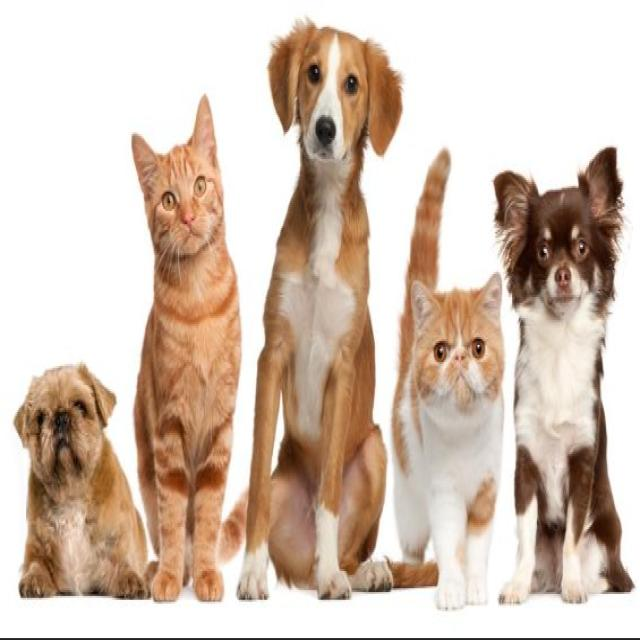cats: (123, 116, 247, 594), (405, 138, 509, 616)
dogs: (264, 20, 401, 584), (496, 152, 634, 600), (15, 357, 146, 599)
